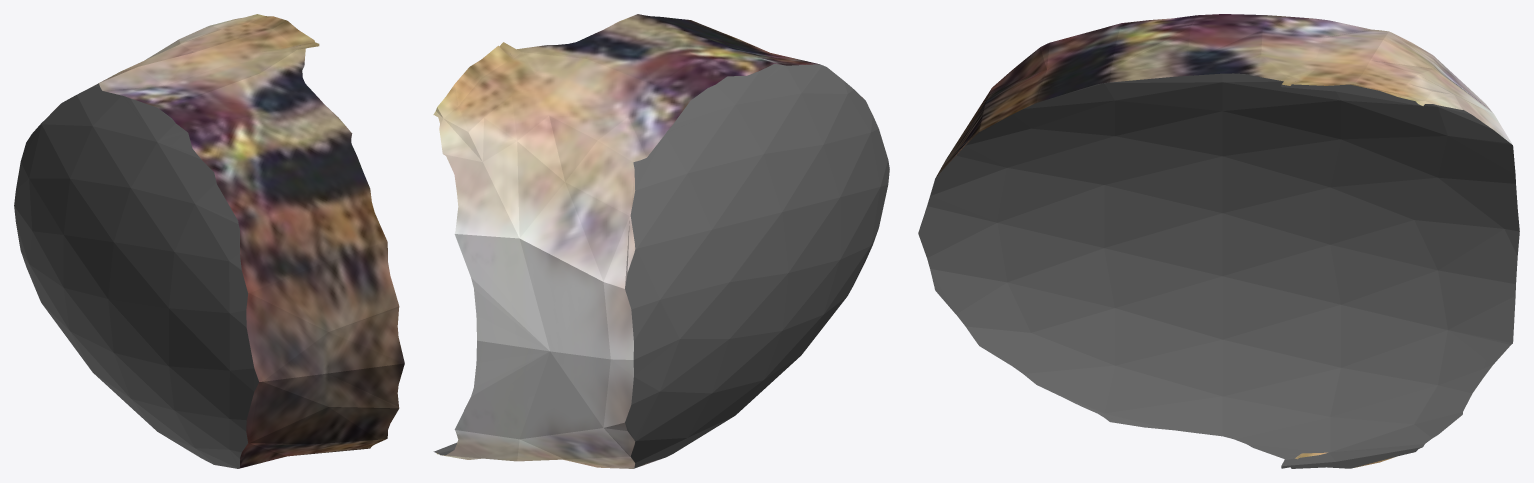
The picture shows the model from 3 angles, left to right: view 1: azimuth 30°, elevation 25°; view 2: azimuth 150°, elevation 25°; view 3: azimuth 270°, elevation 25°; orthographic projection. The views are drawn at different scales.
Parts seen in each view (by area): view 1: link_1_visual; view 2: link_1_visual; view 3: link_1_visual.
Boxes of the visible parts, x1,y1,x2,y2 form: link_1_visual: (14, 14, 404, 468); link_1_visual: (433, 14, 889, 468); link_1_visual: (918, 14, 1519, 468).
Bounding box in the file's own units: 0.00141 × 0.002 × 0.00284.
1 material, 1 textured.
